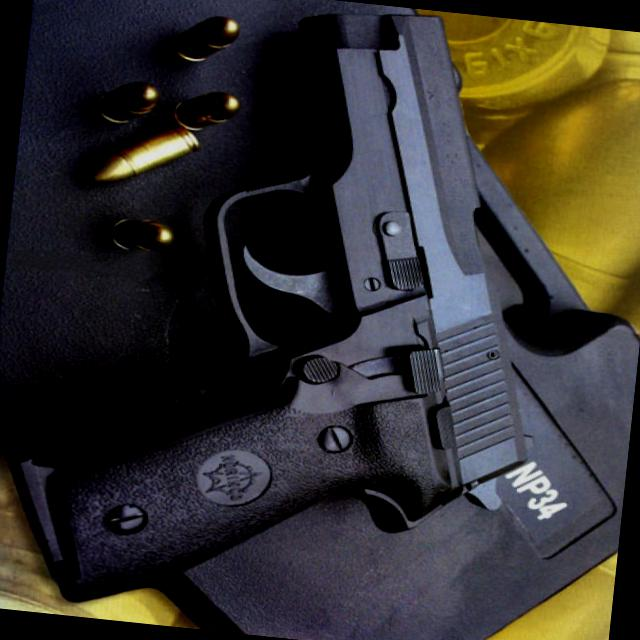handgun: (13, 0, 582, 639)
